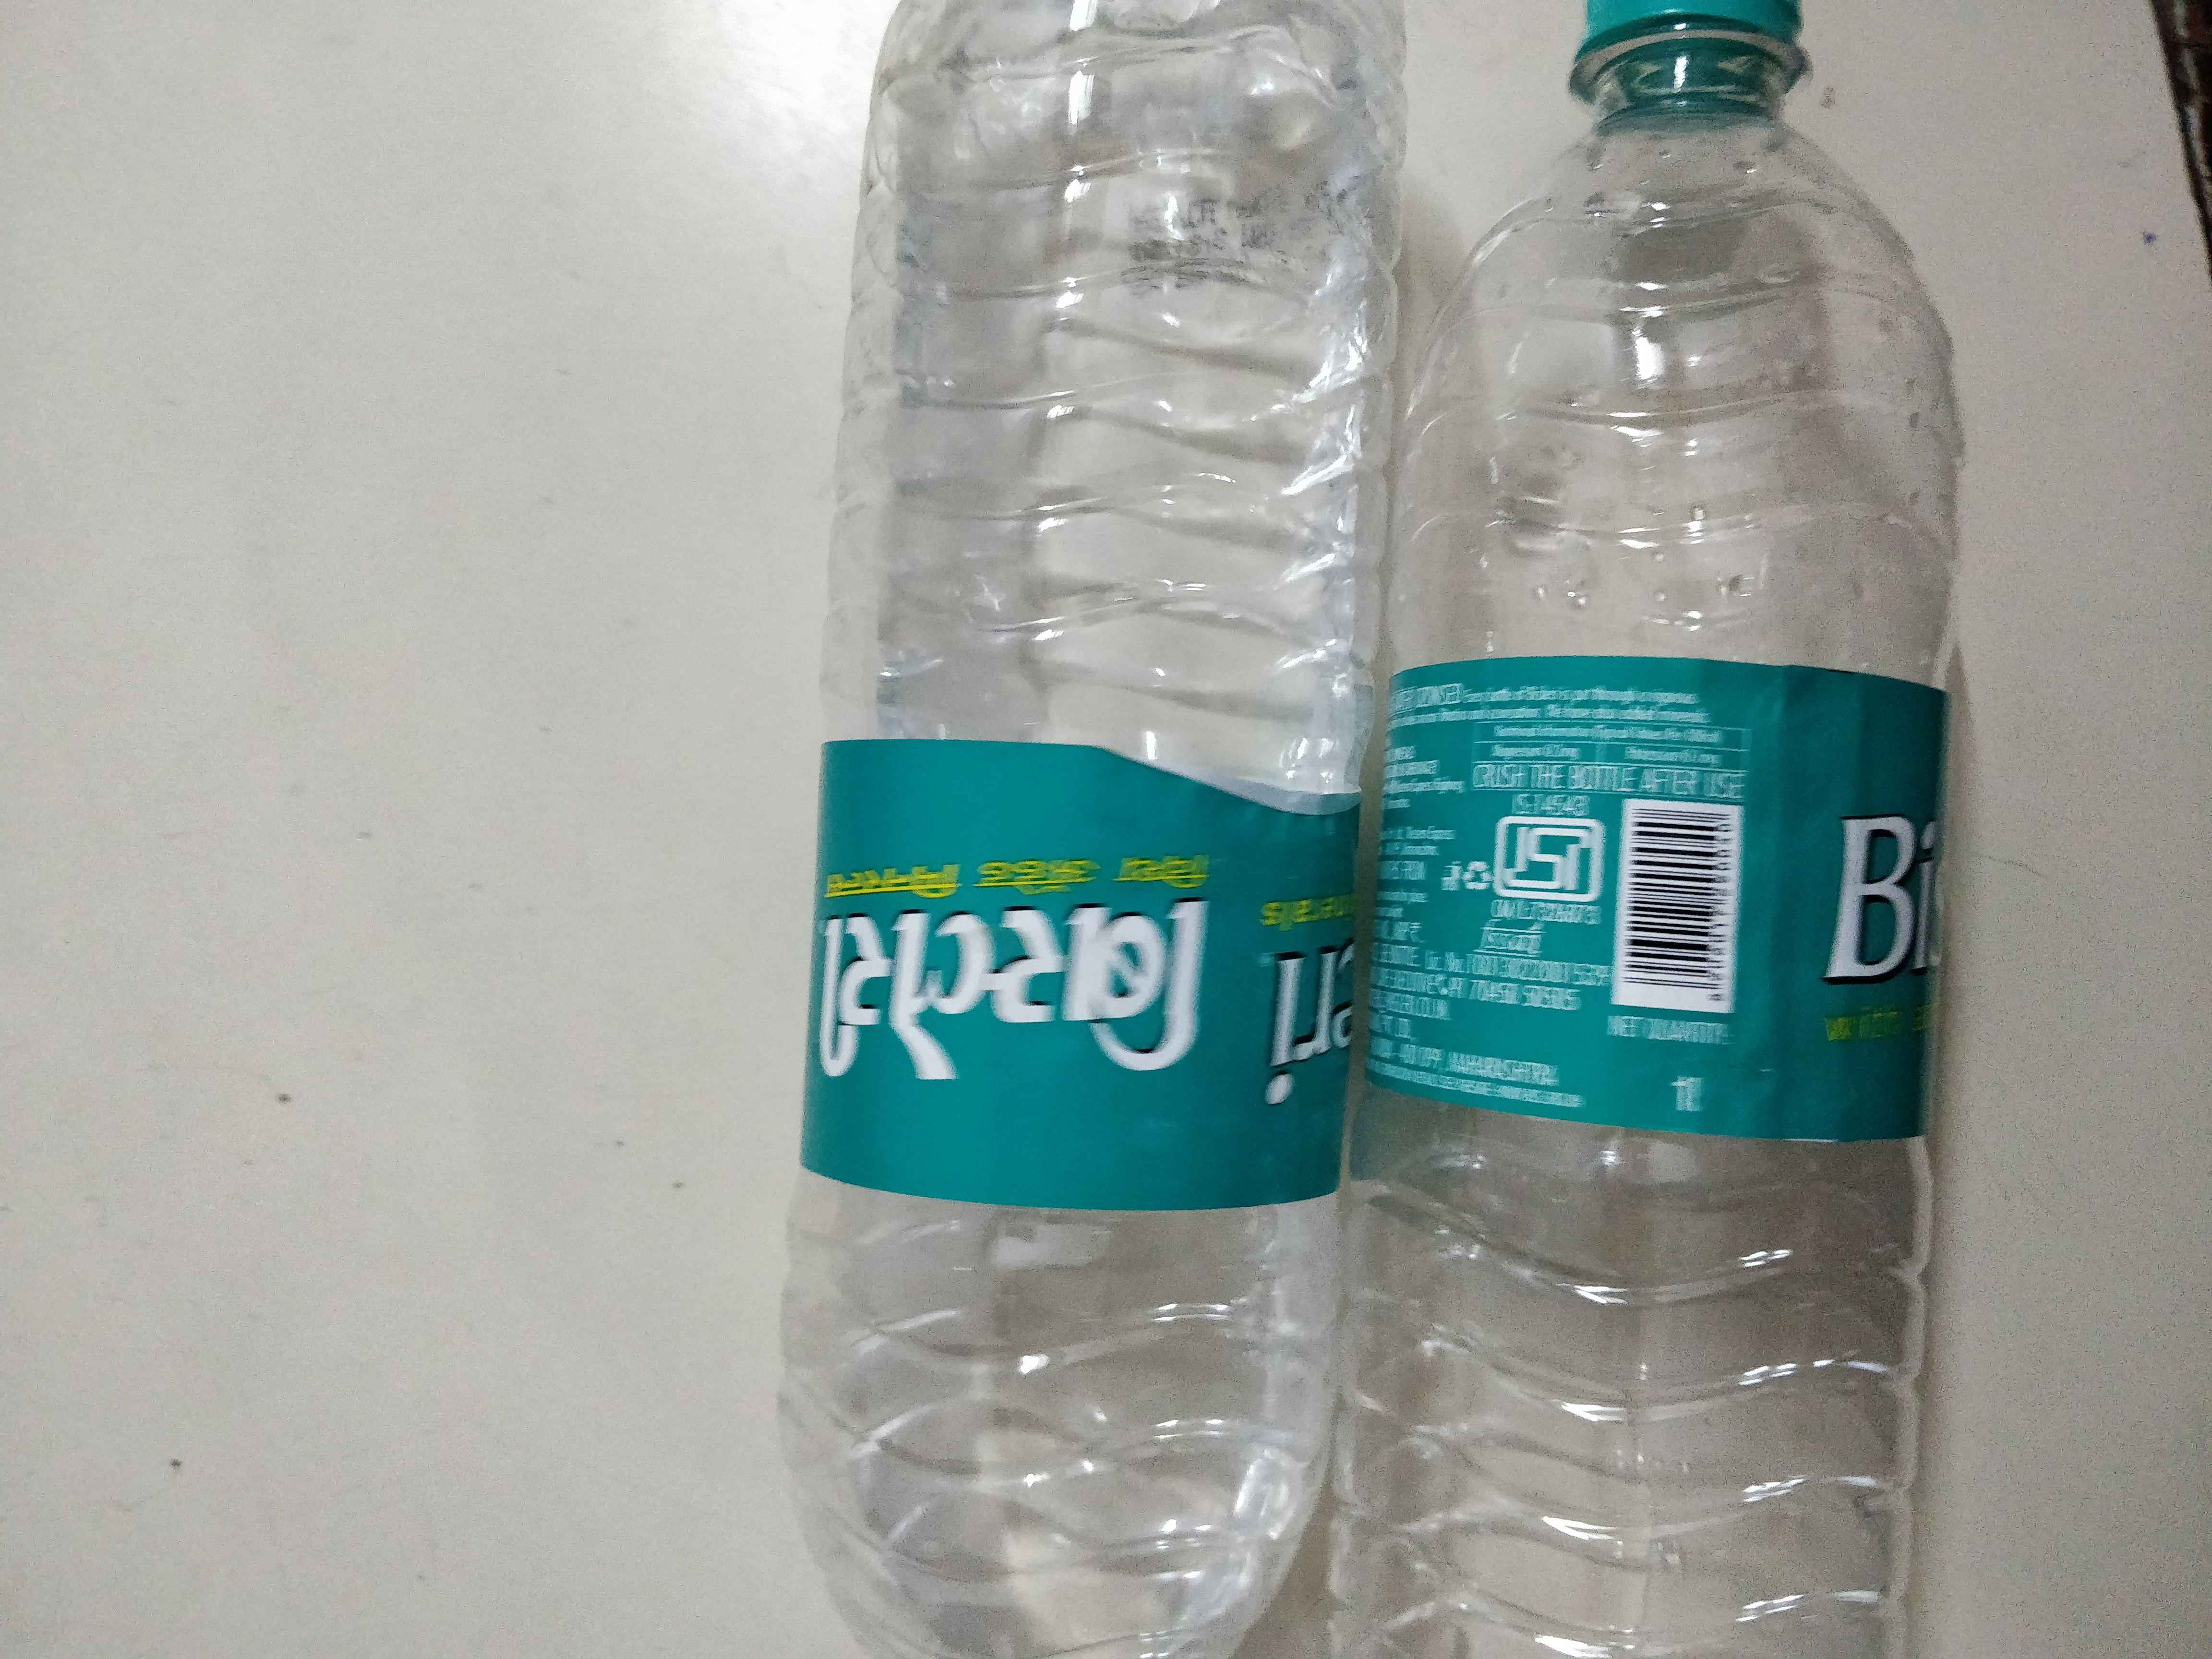Bisleri: (1388, 744, 1958, 1046), (817, 828, 1393, 1087)
